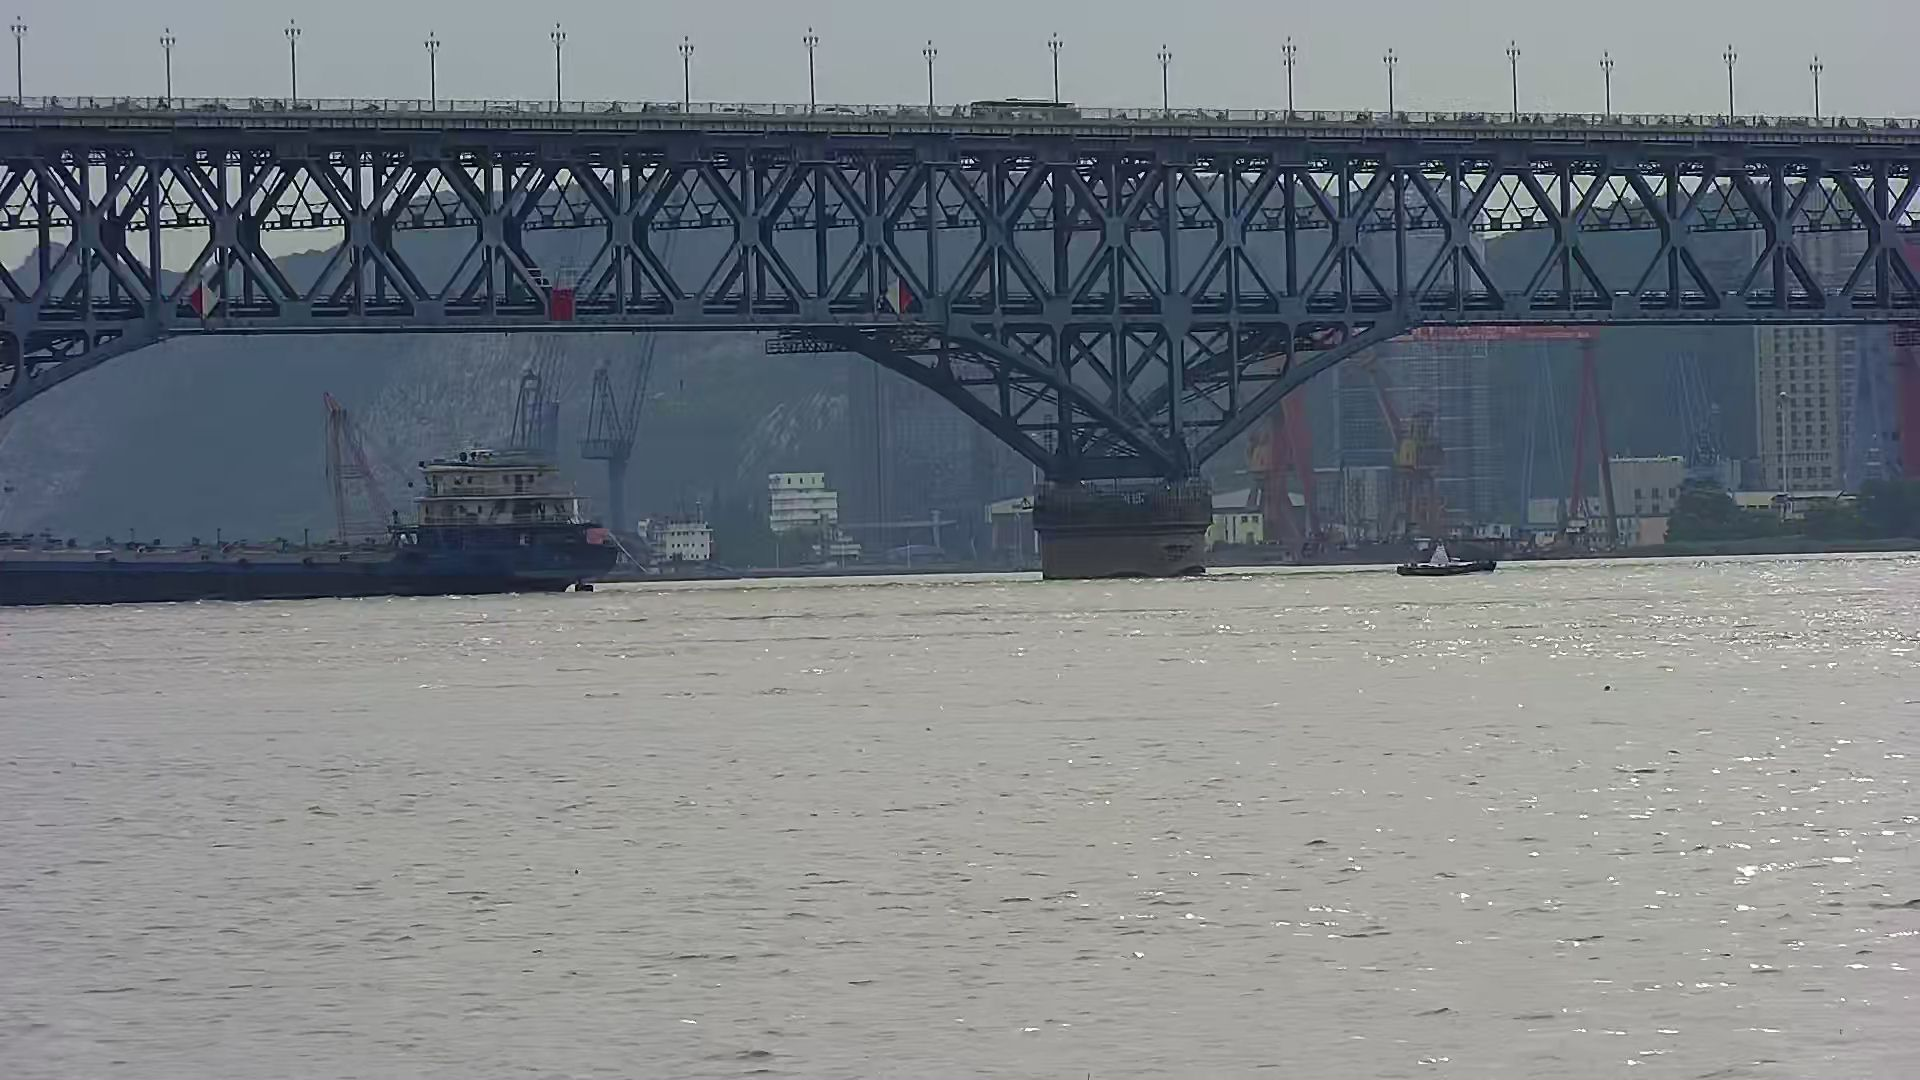boat: (1398, 541, 1495, 576)
bridge: (3, 24, 1919, 579)
harbor: (1253, 320, 1630, 556)
ship: (5, 454, 612, 607)
